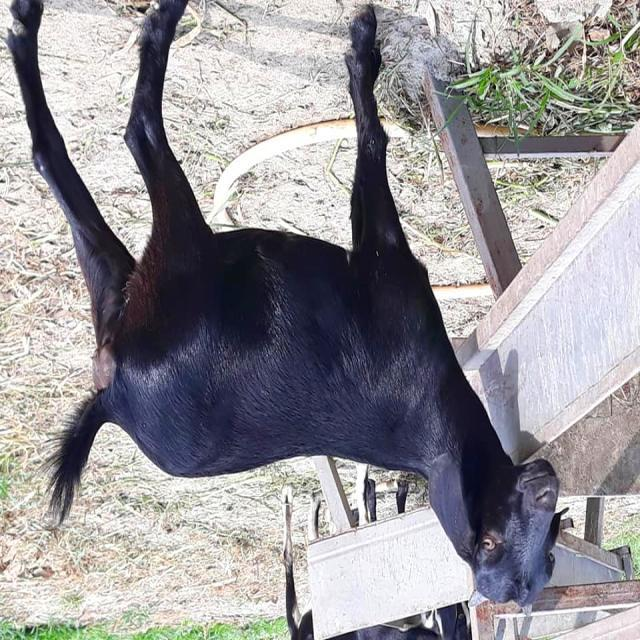Goat: (5, 2, 570, 615), (281, 476, 472, 640)
